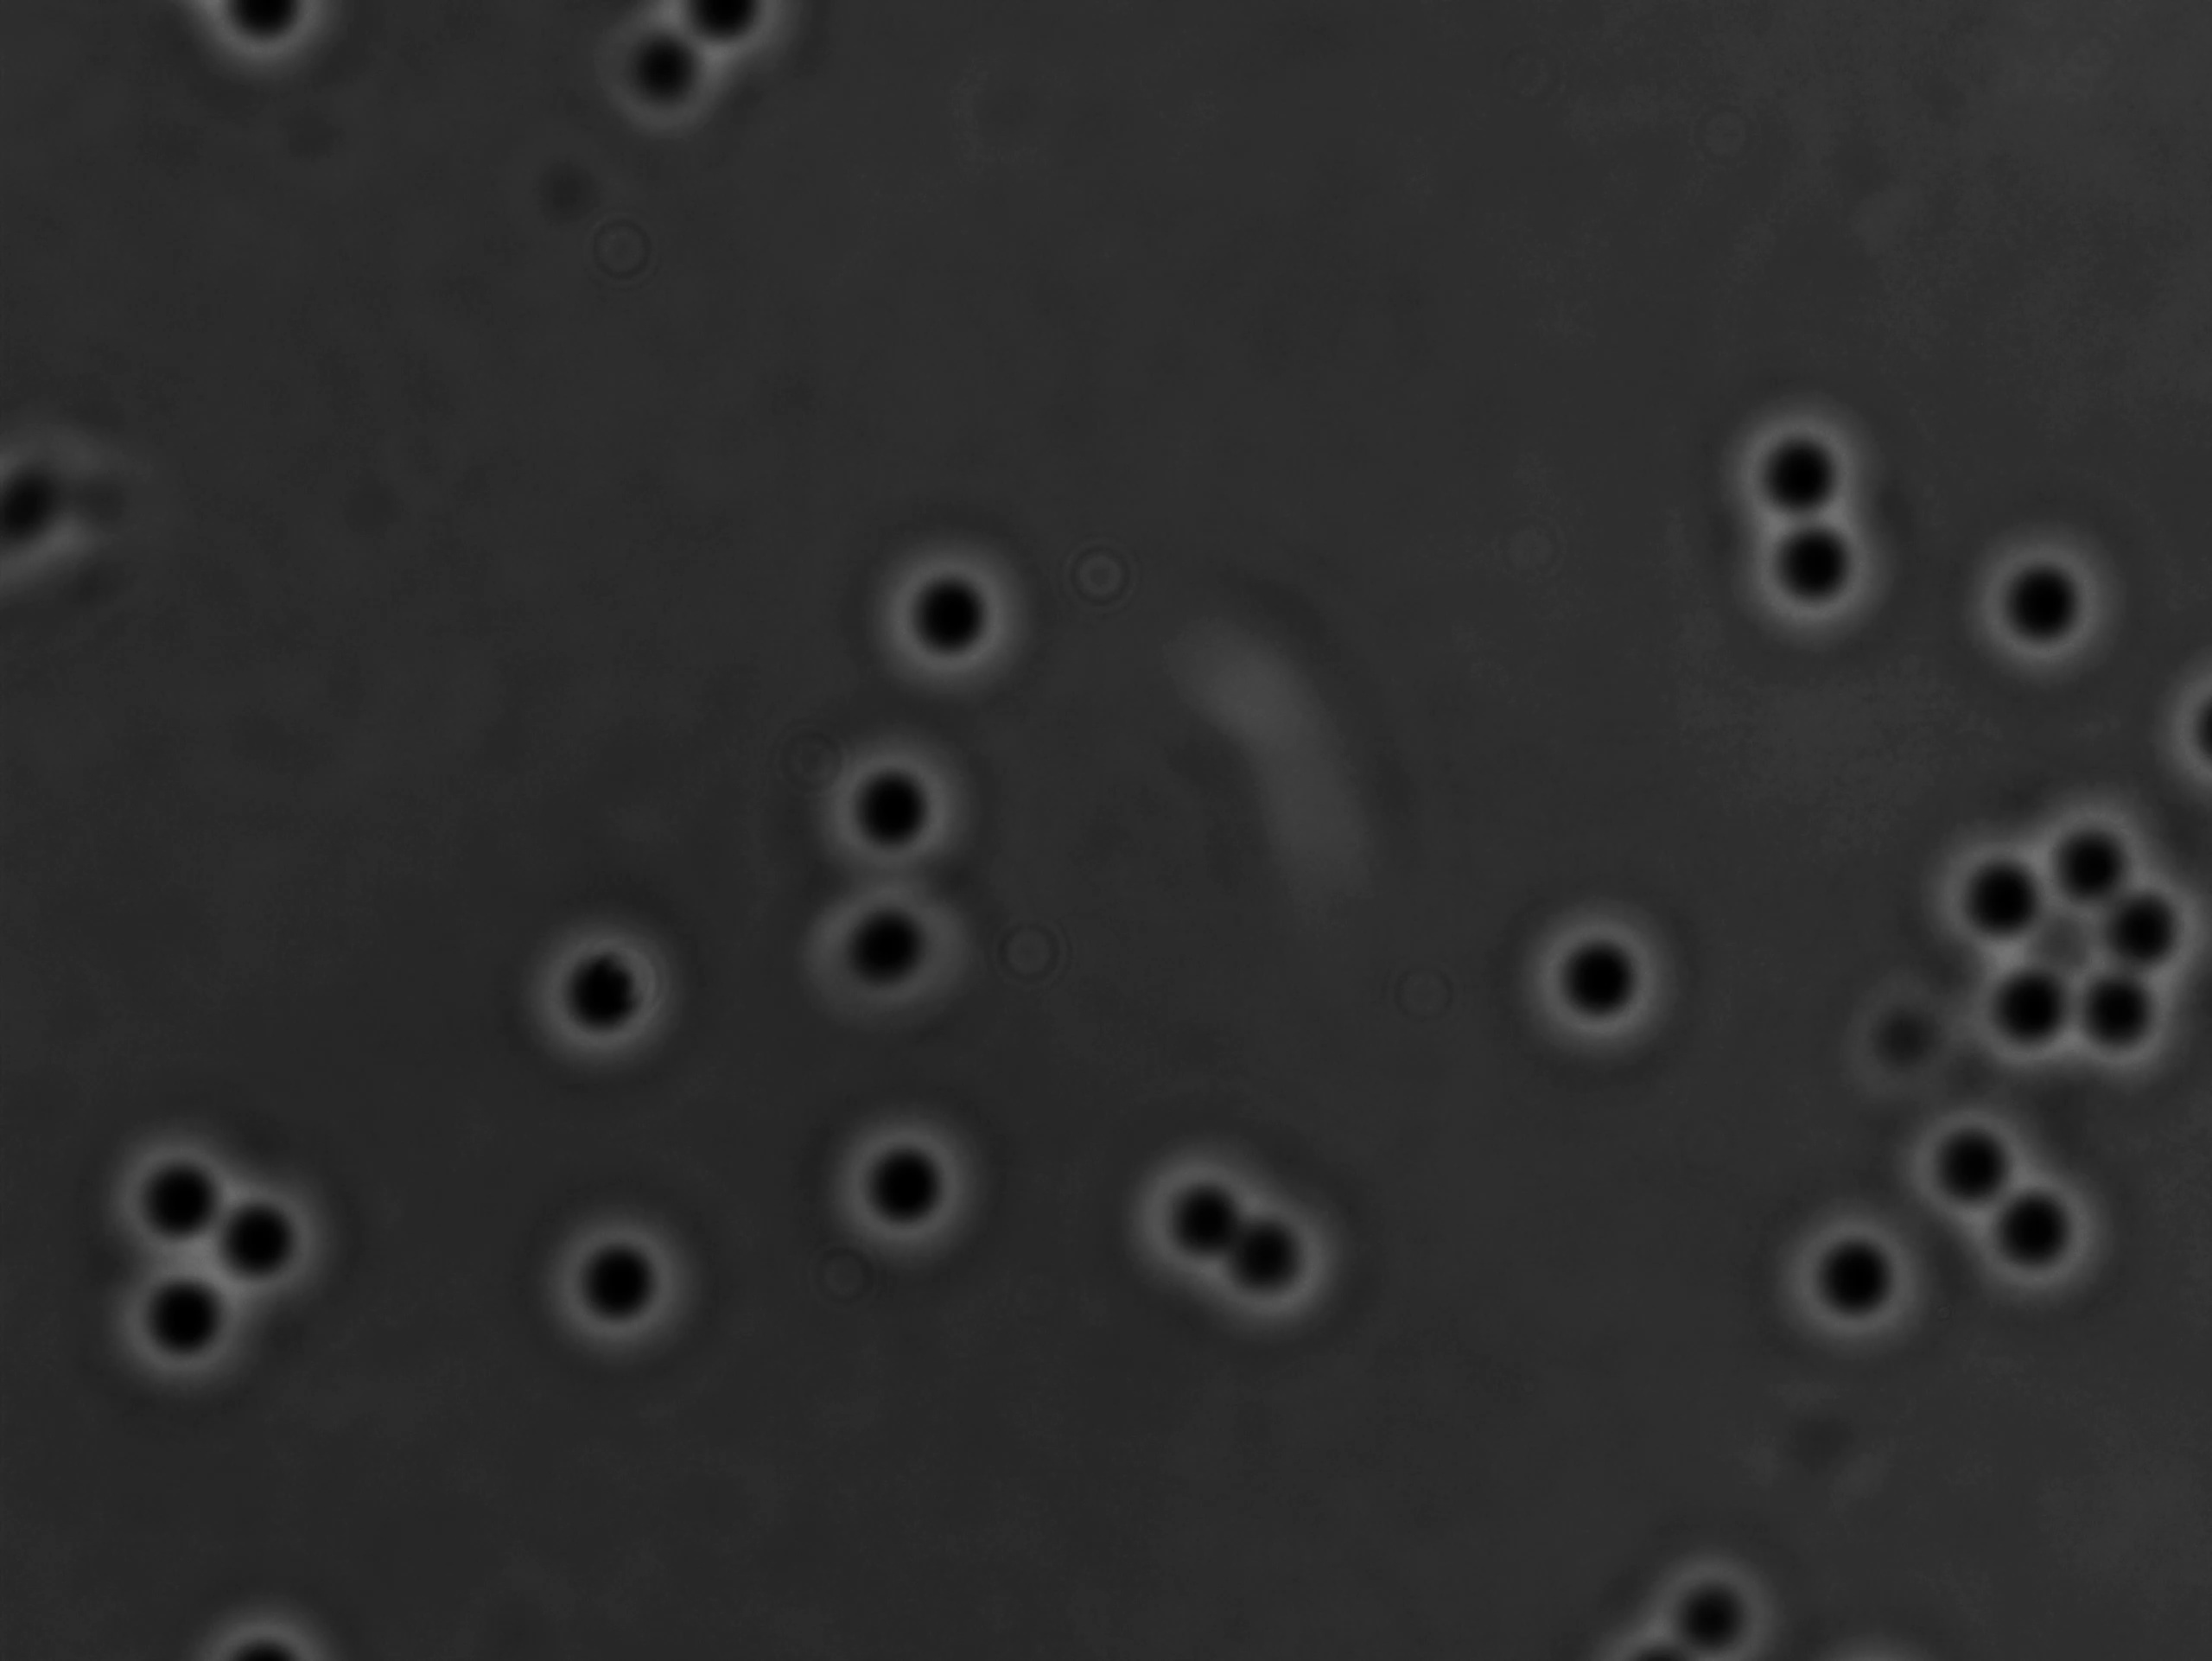depth:-80: (1481, 895, 1706, 1077), (1949, 1110, 2135, 1309), (1755, 1185, 1949, 1375), (1717, 370, 1914, 551), (848, 520, 1047, 700), (818, 1101, 1014, 1282), (1947, 502, 2144, 680), (91, 1227, 288, 1405), (1875, 1066, 2062, 1253), (520, 909, 705, 1094), (806, 719, 996, 897), (187, 1134, 363, 1321), (1720, 471, 1901, 651), (539, 1202, 722, 1371), (98, 1106, 272, 1282)
